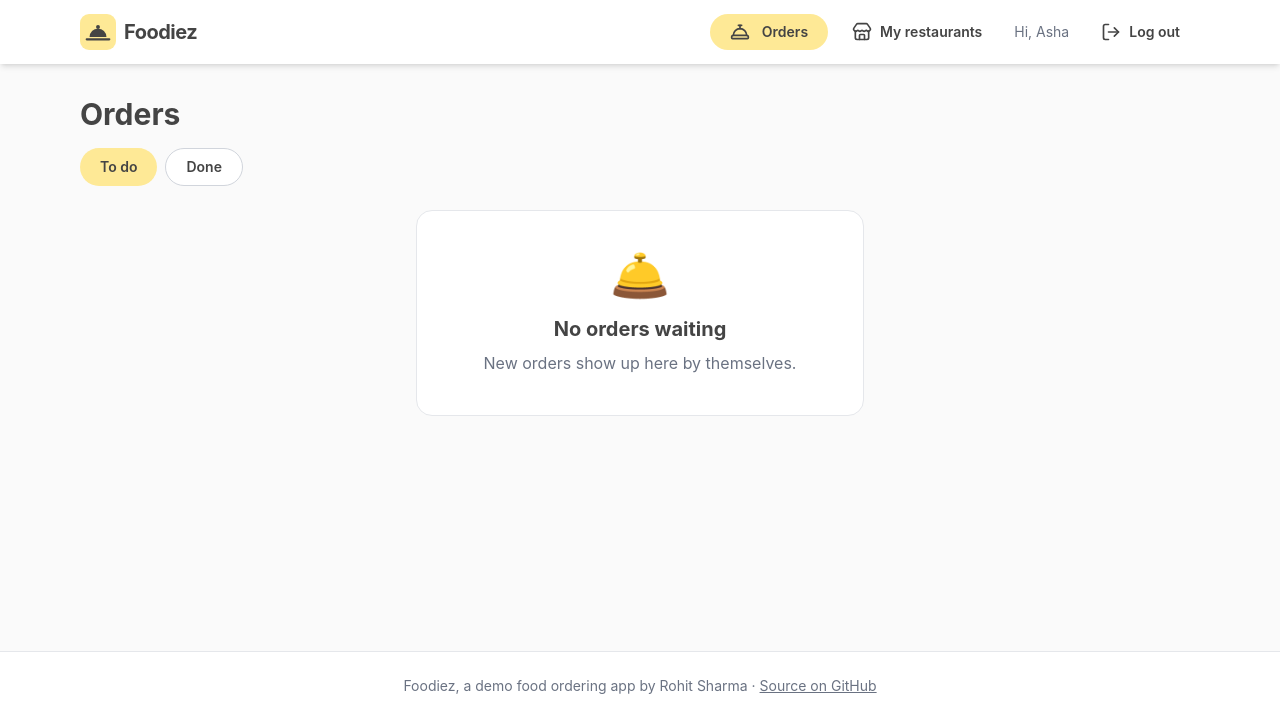
Test case: a restaurant's orders › shows finished orders under Done
Expected: the heading "No orders waiting" is shown, [554,317,726,341]
Click the tab "Done": coordinates (204, 167) [166,148,243,186]
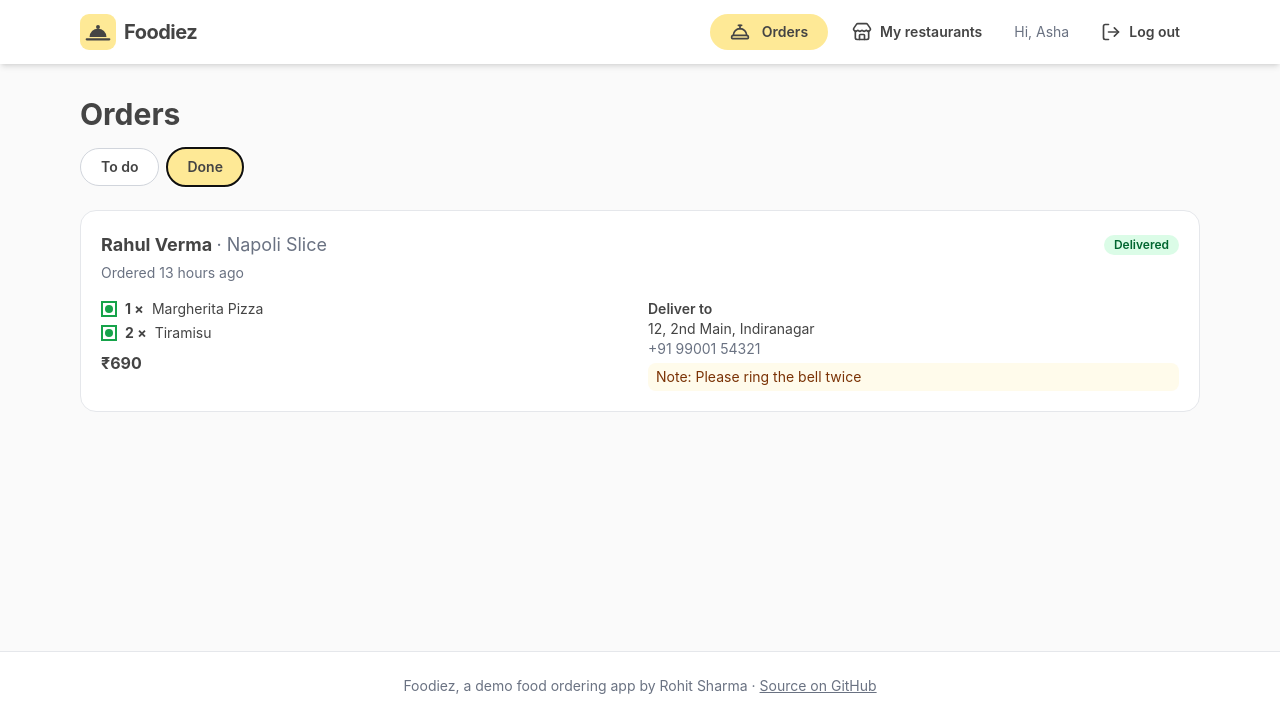
Now the text "Delivered" is shown, box [1104,235,1179,255]
